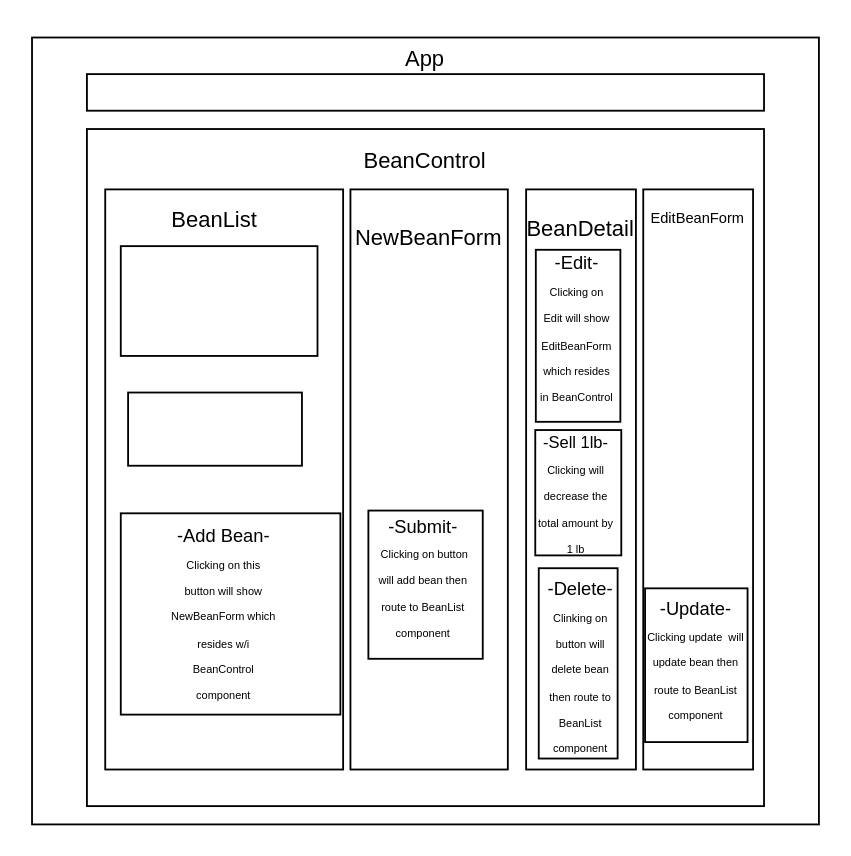
This 851x856 diagram has some shape labels left out. The shapes that lost their labels are listed below. From the top down, each one's centre as x and y in pixels, then its label:
At [424,91]: "Header".
At [218,300]: "-Bean- Clicking on Bean show's BeanDetail".
At [214,428]: "Bean".
